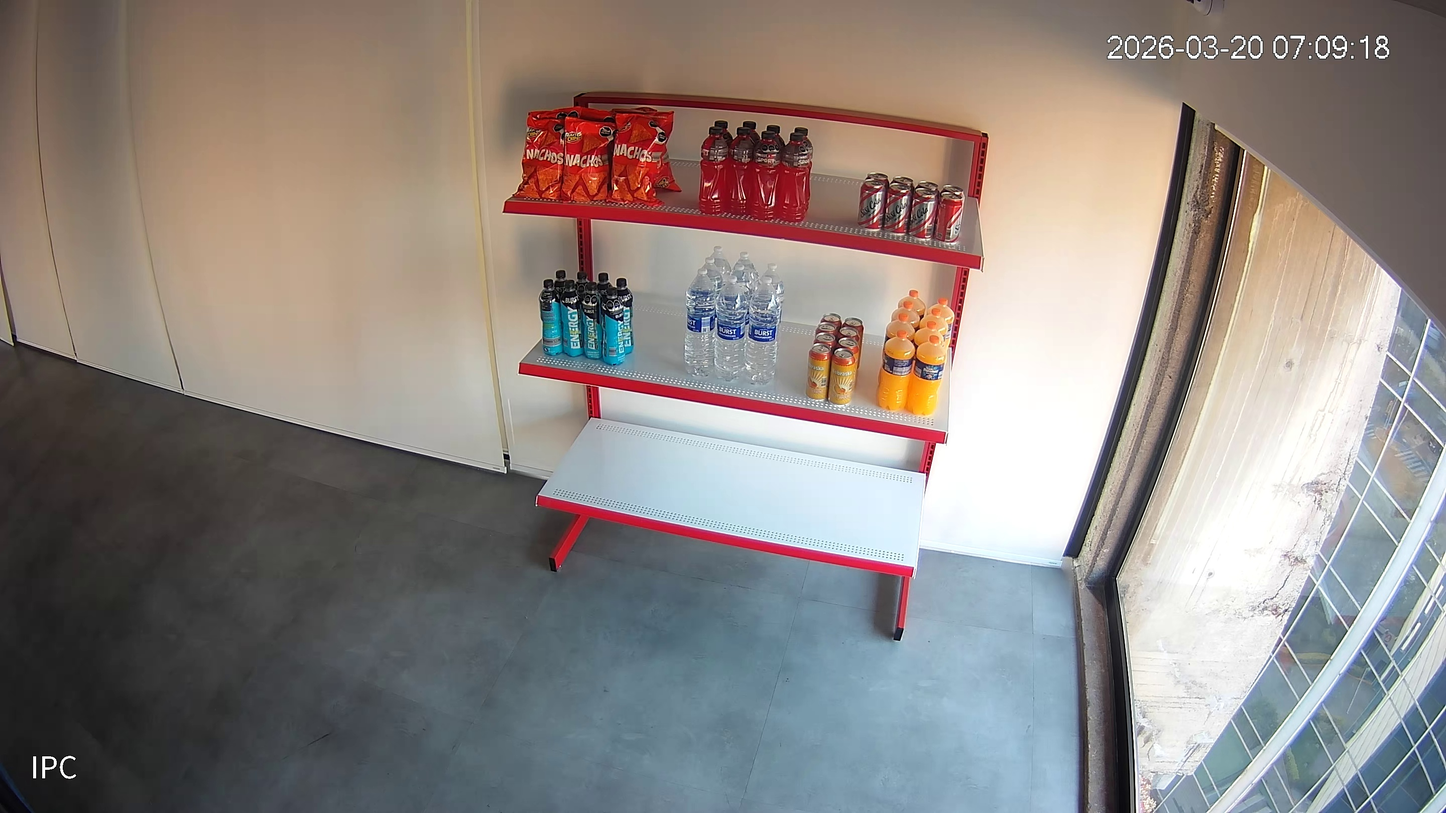agua_burst: (714, 275, 746, 378), (731, 253, 760, 304), (709, 245, 730, 285)
burst_energetica_roja: (776, 132, 808, 222), (724, 126, 755, 214), (714, 120, 733, 147)
burst_energy: (600, 287, 625, 364), (616, 278, 634, 354), (554, 269, 567, 297)
nachos_naturasol: (512, 114, 564, 198), (653, 146, 681, 190), (579, 107, 615, 124)
nebraska_mango: (828, 348, 856, 405), (813, 332, 837, 354), (820, 313, 842, 334)
sisi_cola: (882, 183, 912, 234), (914, 181, 940, 199), (865, 173, 889, 192)
sun_paradise_naranja: (876, 329, 914, 411), (913, 321, 944, 351), (898, 290, 926, 321)
